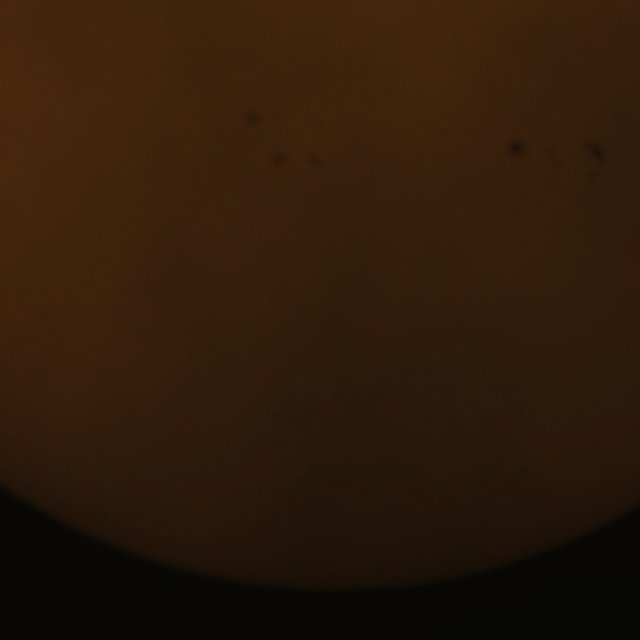sunspot: (583, 128, 631, 192), (505, 128, 564, 178), (263, 145, 293, 174), (239, 104, 269, 131), (307, 147, 332, 171)
